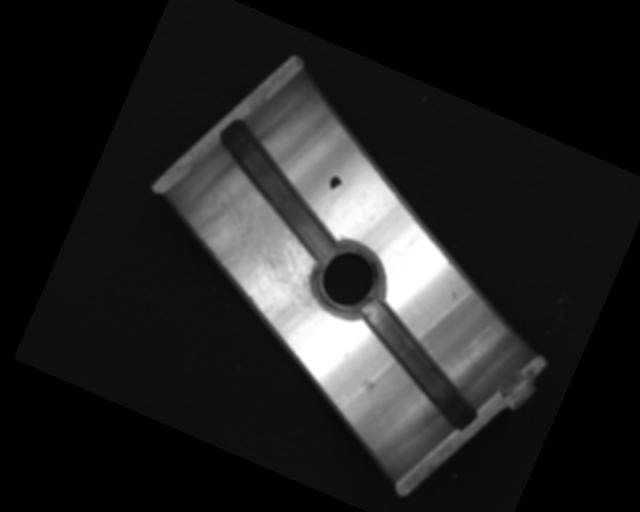blot: (326, 173, 344, 194)
bruise: (358, 376, 378, 397), (447, 290, 459, 302)
gap: (190, 116, 366, 265), (333, 296, 503, 434)
hole: (301, 231, 394, 329)
nick: (462, 311, 502, 361)
scratch: (181, 177, 360, 348)
